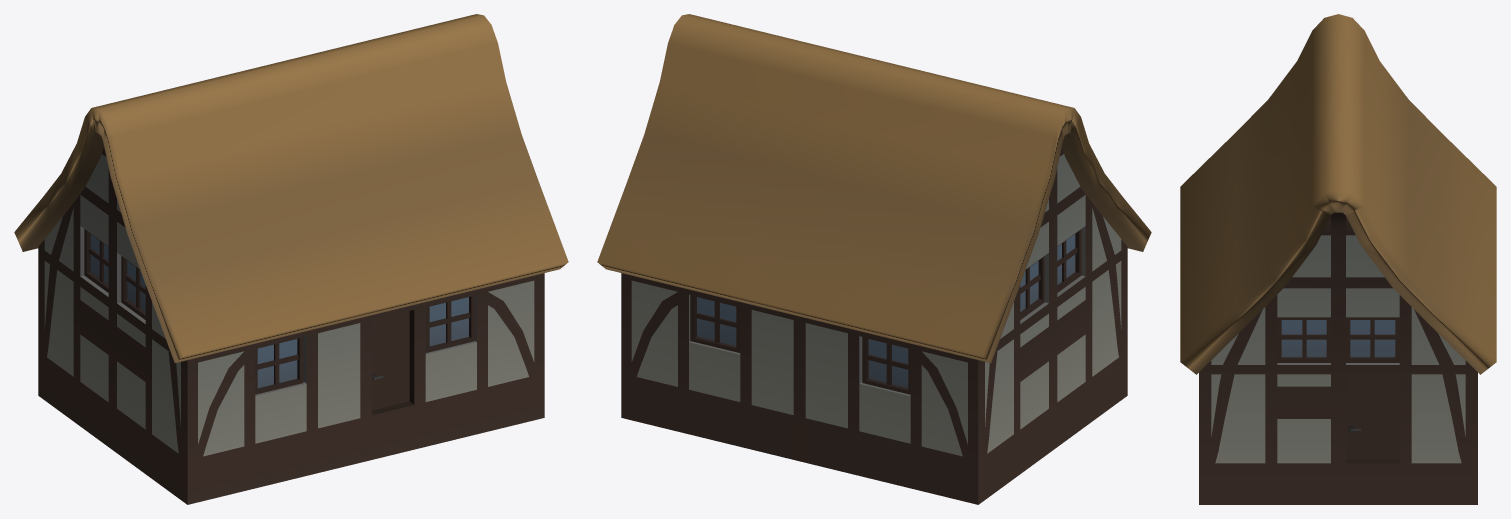
The model's file is Historical_MedievalCottage_alt01.glb.
3 views of the same model, side by side, from view 1: azimuth 30°, elevation 25°; view 2: azimuth 150°, elevation 25°; view 3: azimuth 270°, elevation 25° (orthographic). The views are drawn at different scales.
Parts seen in each view (by area): view 1: base.097, windowRefl.069; view 2: base.097, windowRefl.069; view 3: base.097, windowRefl.069.
Part boxes in pixels (x1=…): base.097: x1=14, y1=14, x2=568, y2=504; windowRefl.069: x1=90, y1=234, x2=468, y2=388; base.097: x1=597, y1=14, x2=1151, y2=504; windowRefl.069: x1=697, y1=234, x2=1075, y2=388; base.097: x1=1180, y1=14, x2=1496, y2=504; windowRefl.069: x1=1281, y1=320, x2=1395, y2=357.
Bounding box in the file's own units: 11.52 × 9.84 × 8.76.
